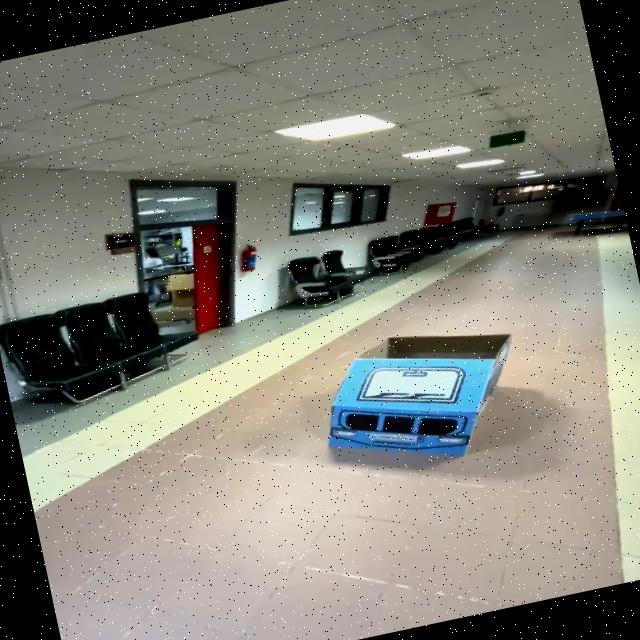blue_car: (250, 285, 577, 516)
